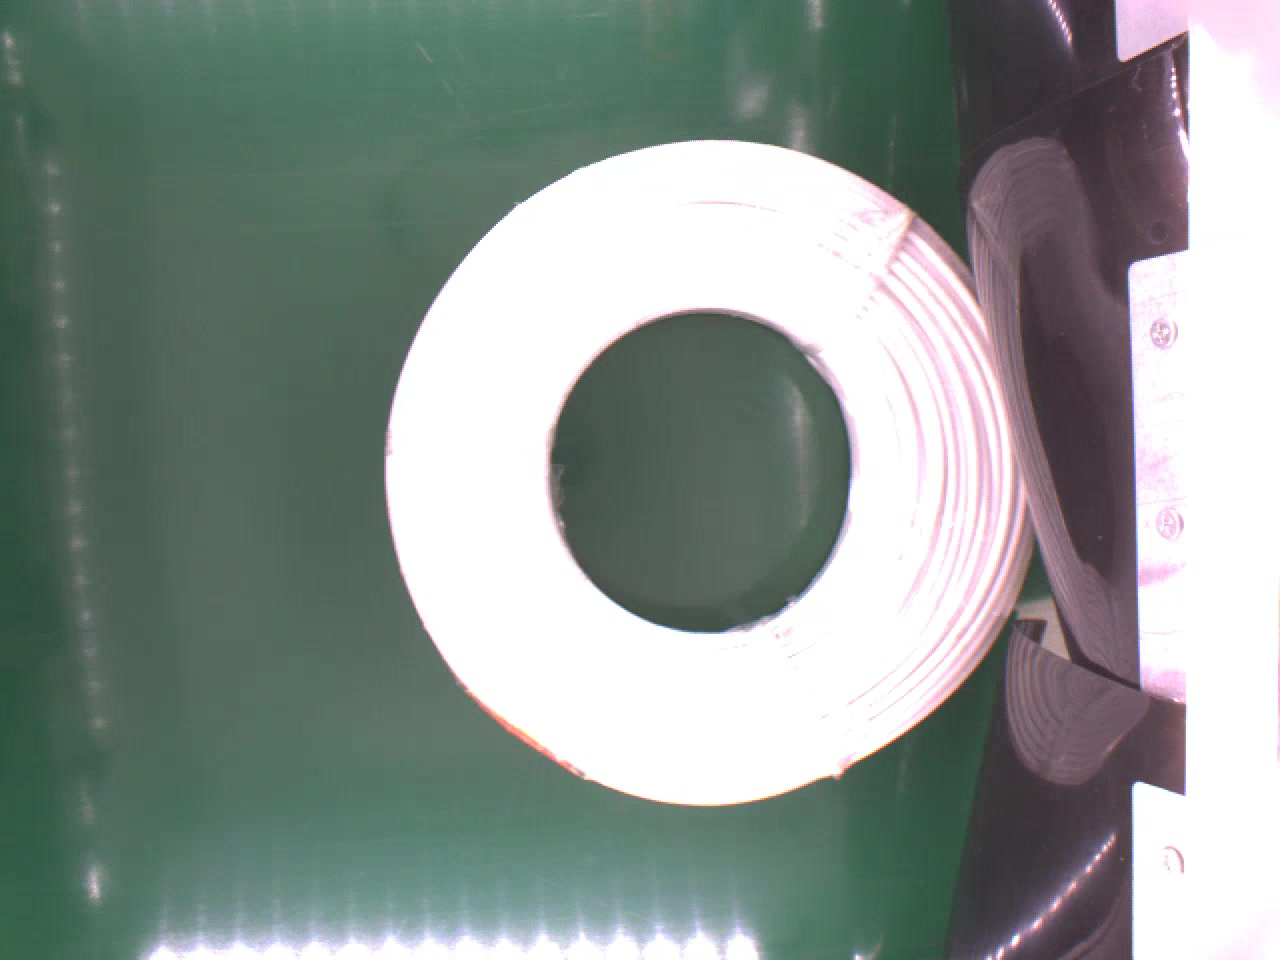white: (386, 136, 1041, 817)
